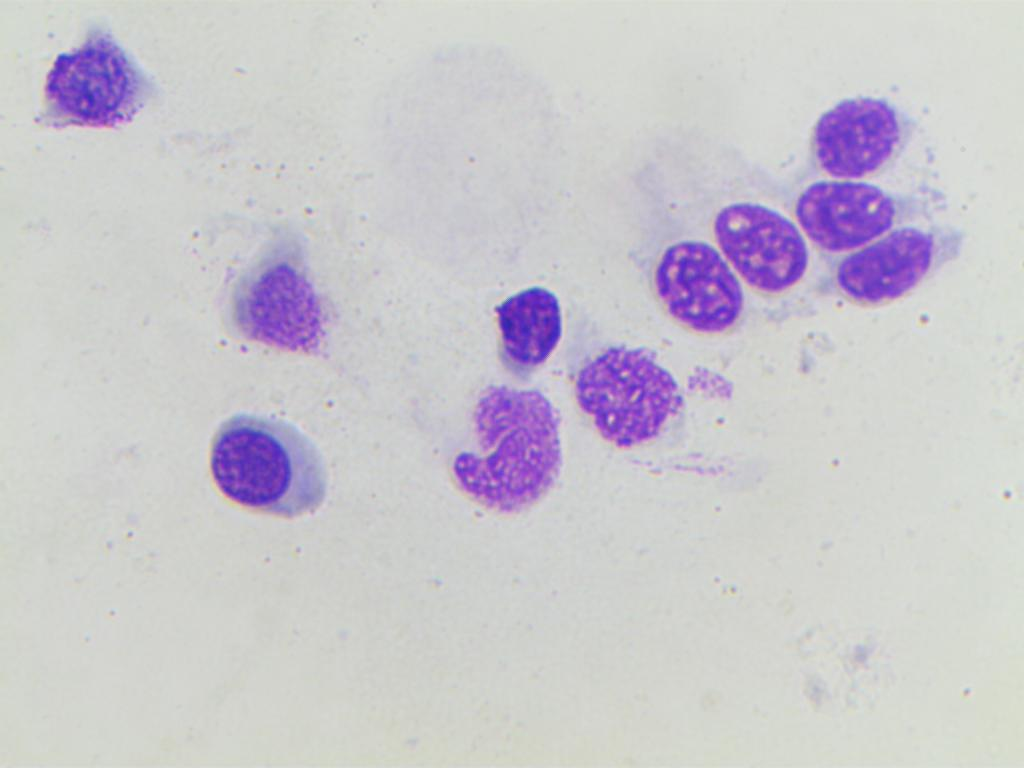epithelial: (186, 196, 340, 372), (434, 371, 583, 523), (12, 6, 155, 135), (565, 338, 687, 472), (203, 406, 328, 532), (710, 190, 817, 300), (798, 75, 910, 179), (825, 222, 955, 310), (484, 267, 564, 387), (637, 242, 740, 335), (799, 175, 894, 247)
